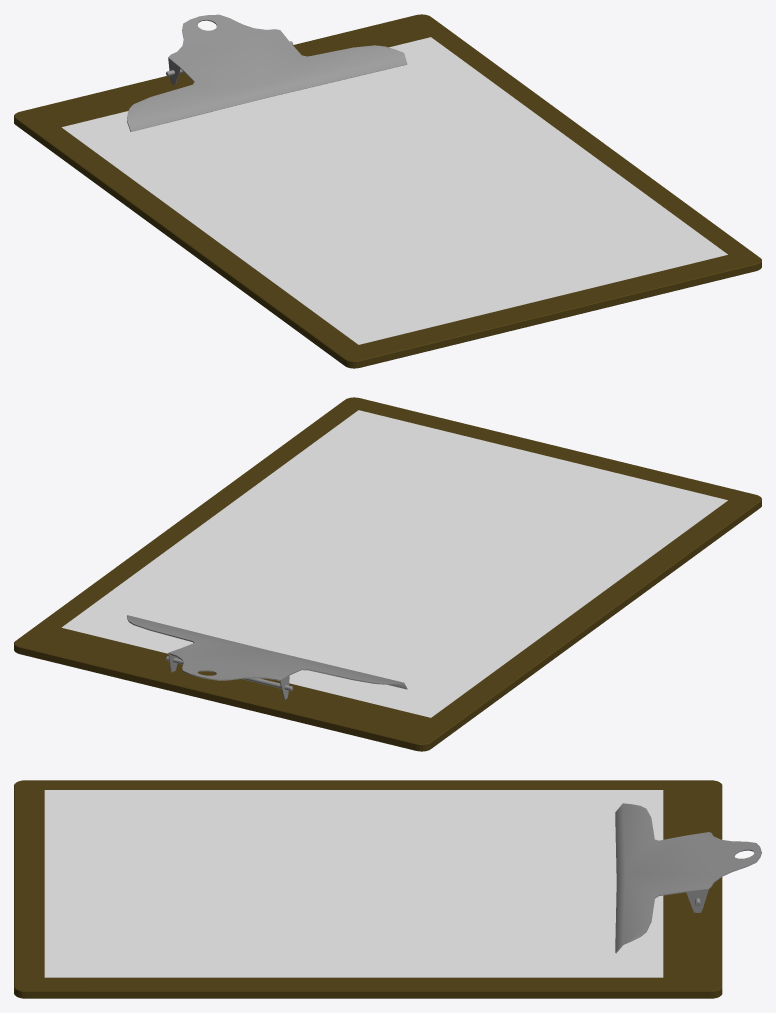
The model's file is clipboard.fbx.
3 views of the same model, one above another, from view 1: azimuth 30°, elevation 25°; view 2: azimuth 150°, elevation 25°; view 3: azimuth 270°, elevation 25° (orthographic). The views are drawn at different scales.
Visible parts, largest first — view 1: polySurface118; view 2: polySurface118; view 3: polySurface118.
Part boxes in pixels (bbox=[...]): polySurface118: bbox=[14, 14, 761, 368]; polySurface118: bbox=[14, 397, 761, 751]; polySurface118: bbox=[14, 780, 761, 998].
Bounding box in the file's own units: 36.28 × 3.36 × 54.3.
